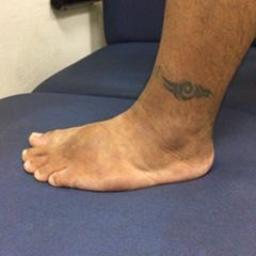Lateral View -Left Foot-: (16, 74, 227, 195)
